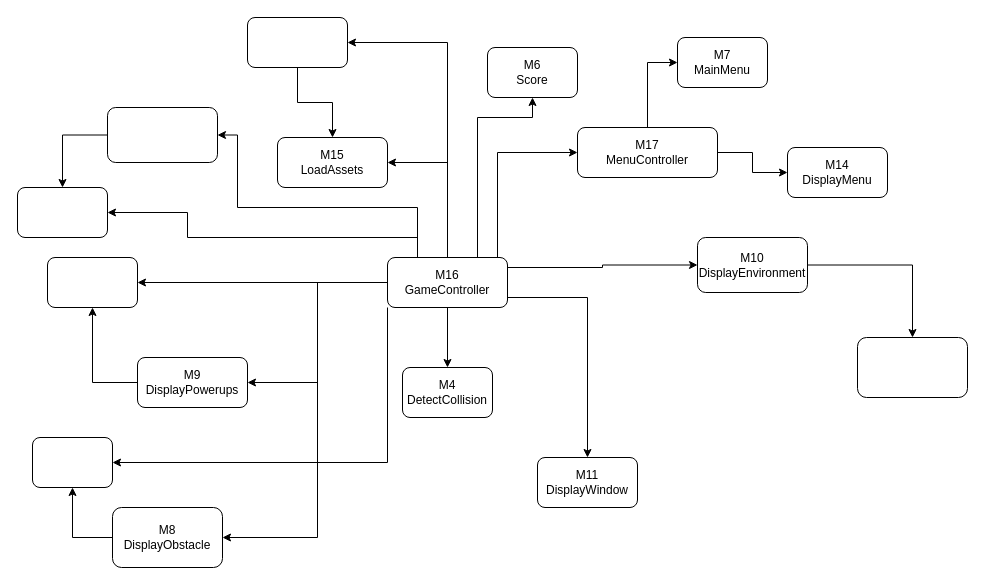
Some shapes in this 985 by 585 pixel diagram are drawn without their labels. The shapes that lost their labels are listed below. From the top down, each one's centre as x and y in pixels, then its label:
At point 297,42: "M13 PlaySound".
At point 162,134: "M12 DisplayCharacter".
At point 62,212: "M1 Character".
At point 92,282: "M2 PowerUp".
At point 912,367: "M5 UpdateEnvironment".
At point 72,462: "M3 Obstacle".
